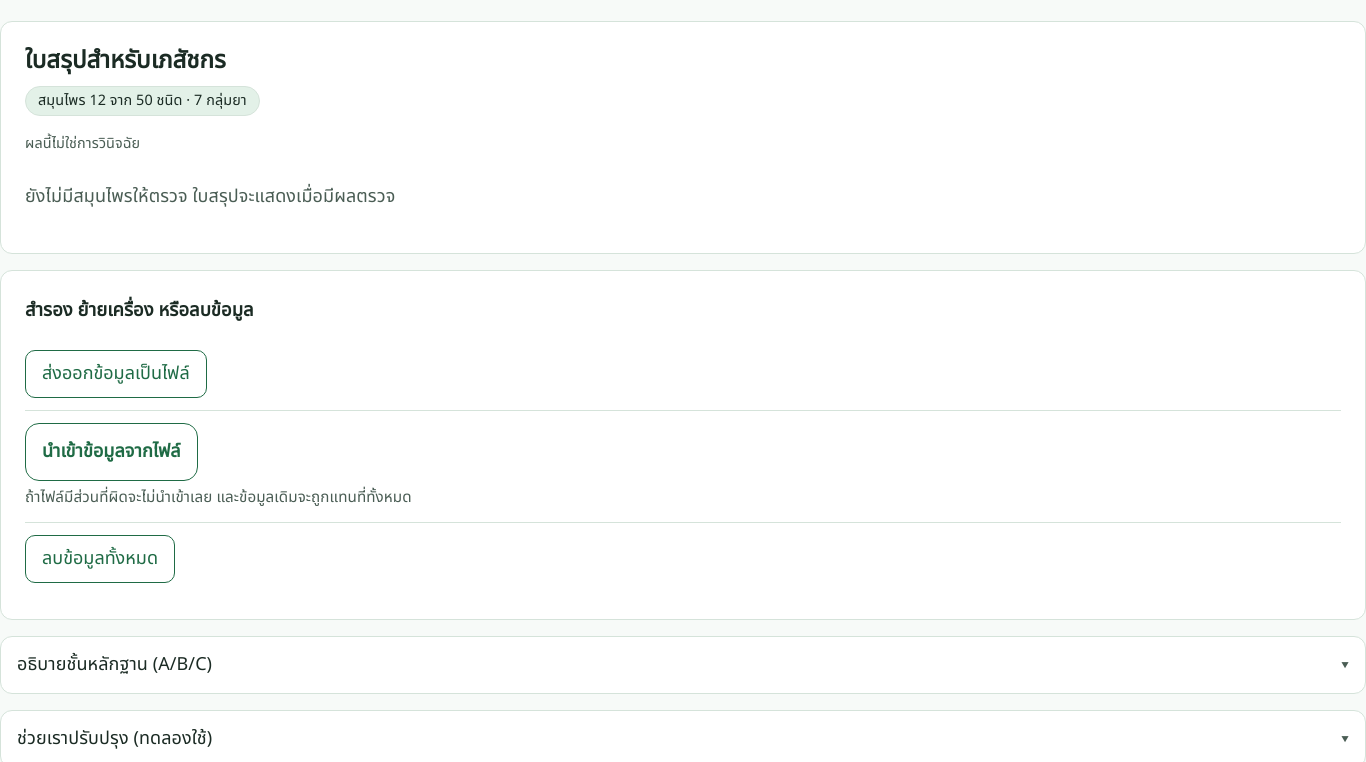
ส่งออก/นำเข้า/ลบ › ลบข้อมูลทั้งหมดต้องกดยืนยัน แล้วล้างรายการ โปรไฟล์ และ localStorage
(page scrolled)
Click the button "ลบข้อมูลทั้งหมด" at [100, 559], box x1=25 y1=535 x2=175 y2=583
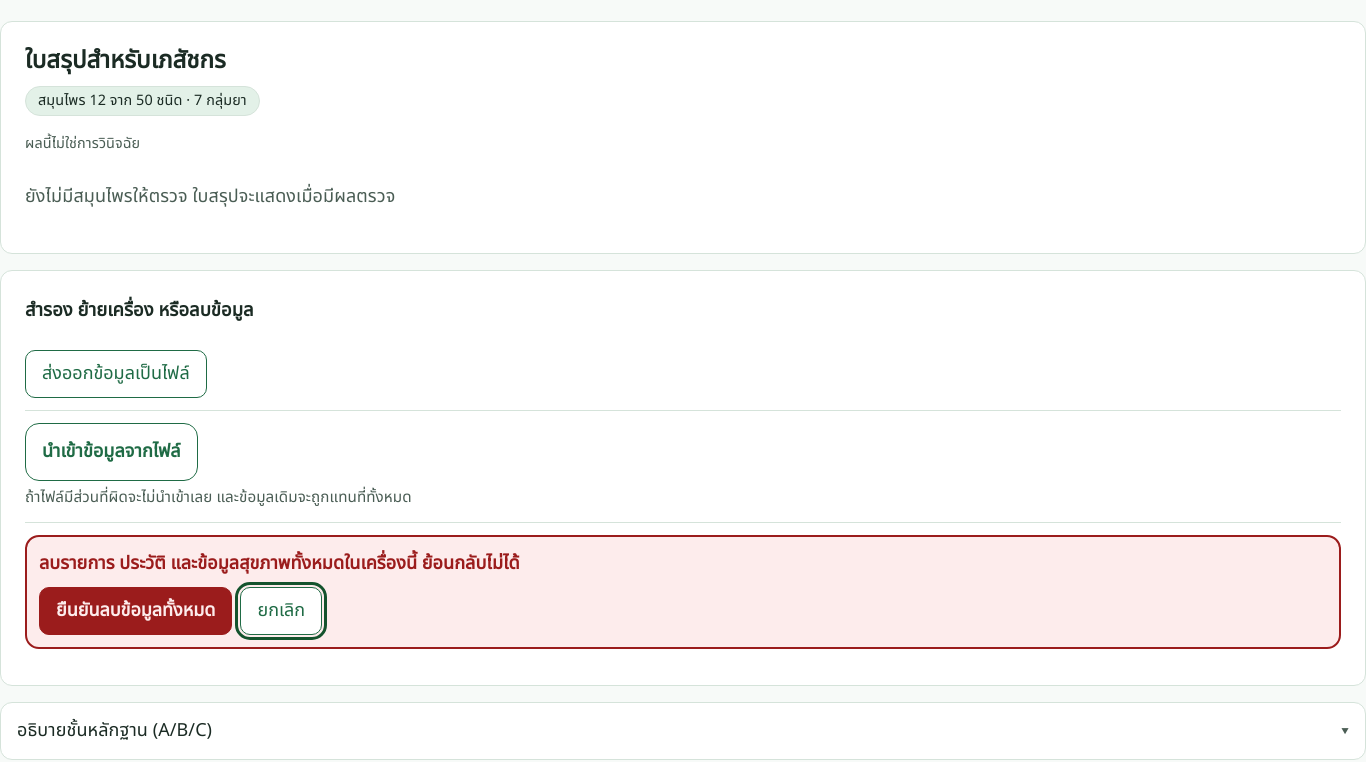
Click the button "ยกเลิก" at [281, 611], box x1=240 y1=587 x2=322 y2=635
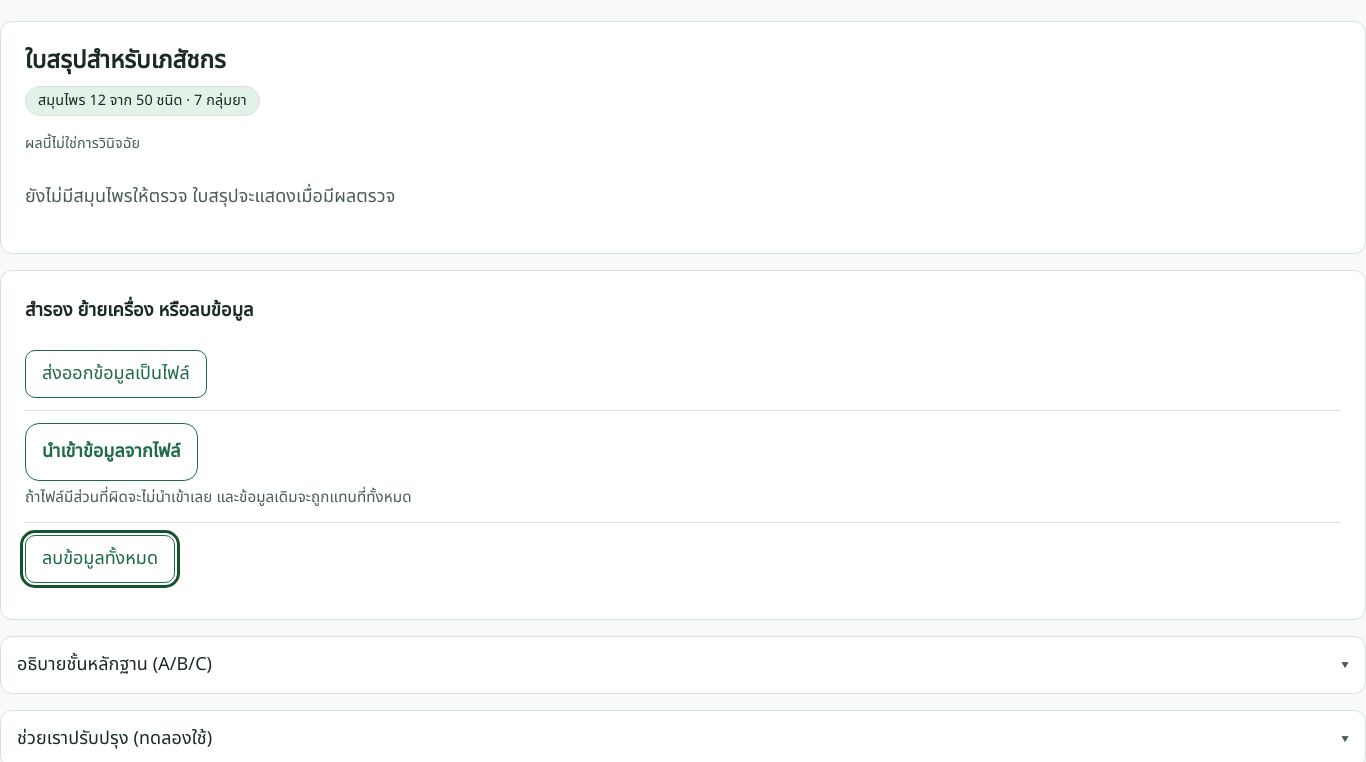
Click the button "ลบข้อมูลทั้งหมด" at [100, 559], box x1=25 y1=535 x2=175 y2=583
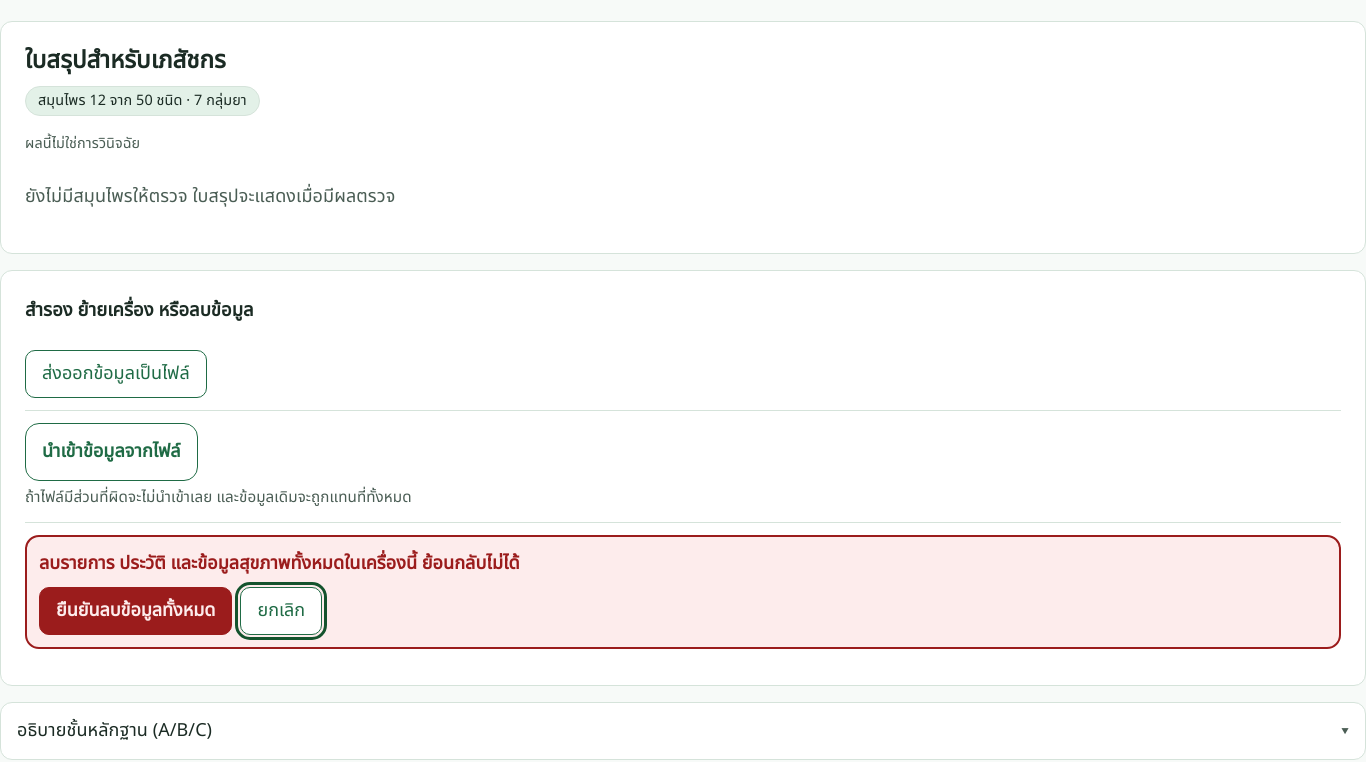
Click the button "ยืนยันลบข้อมูลทั้งหมด" at [136, 611], box x1=39 y1=587 x2=232 y2=635
(page scrolled)
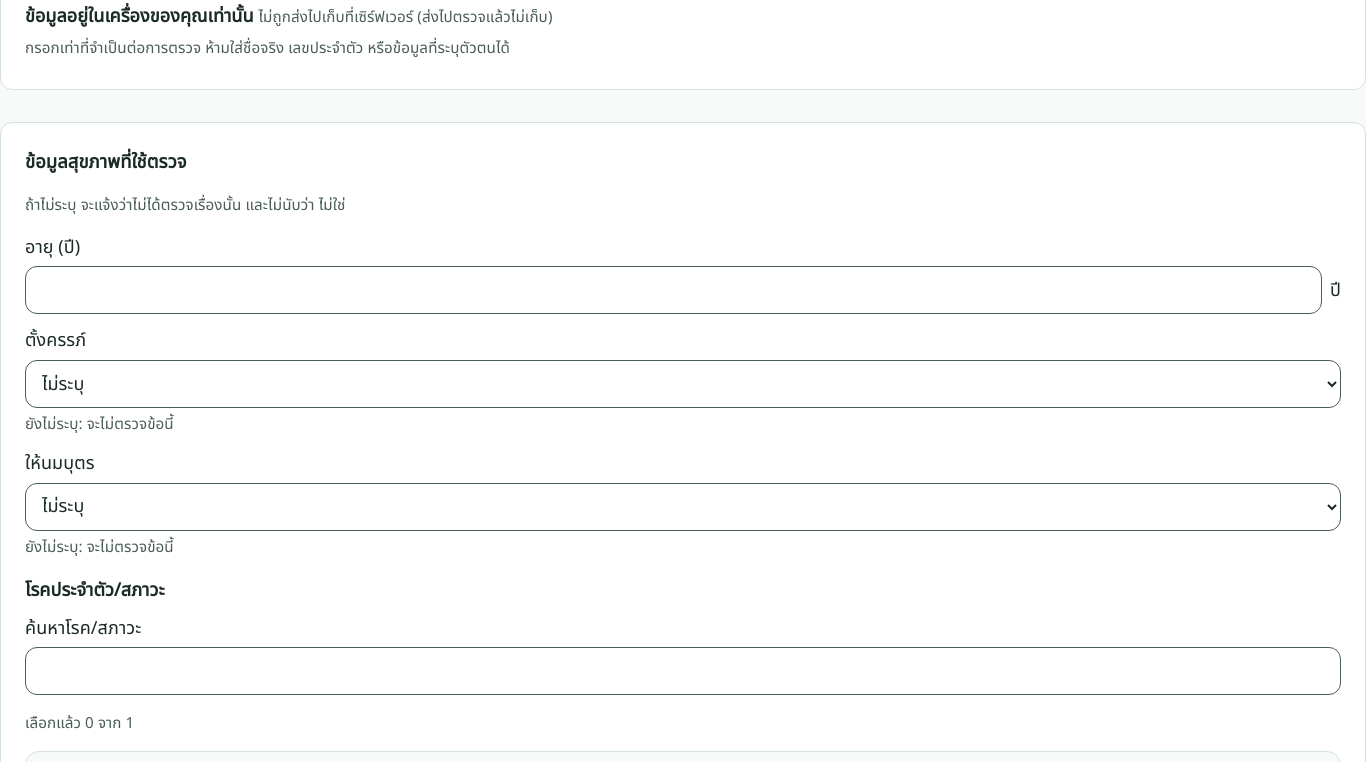
Expected: the dropdown labelled "ตั้งครรภ์" shows "ไม่ระบุ", x1=25 y1=360 x2=1341 y2=408
